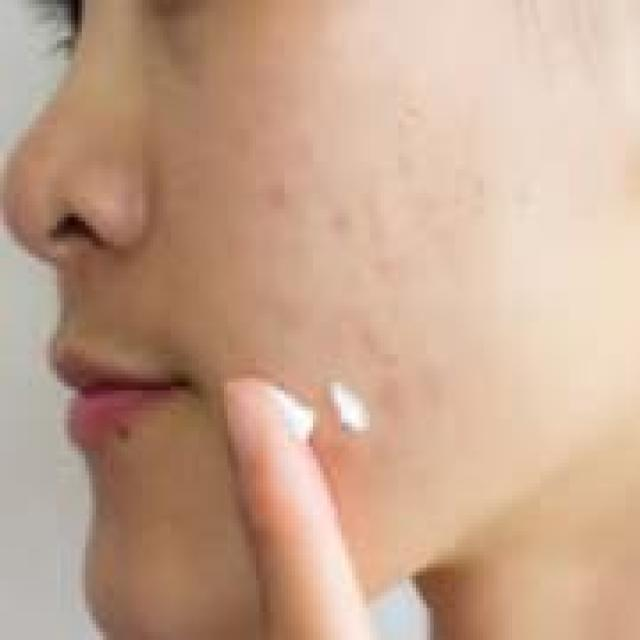Pimples: (324, 378, 366, 431), (114, 422, 132, 442)
